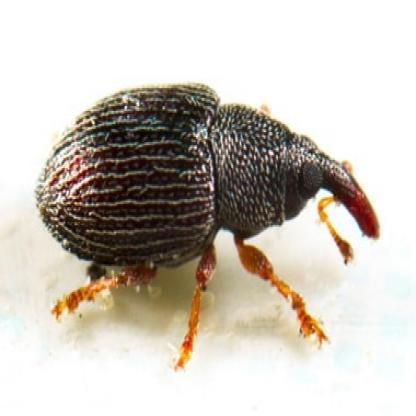rice-bug: (37, 84, 380, 372)
